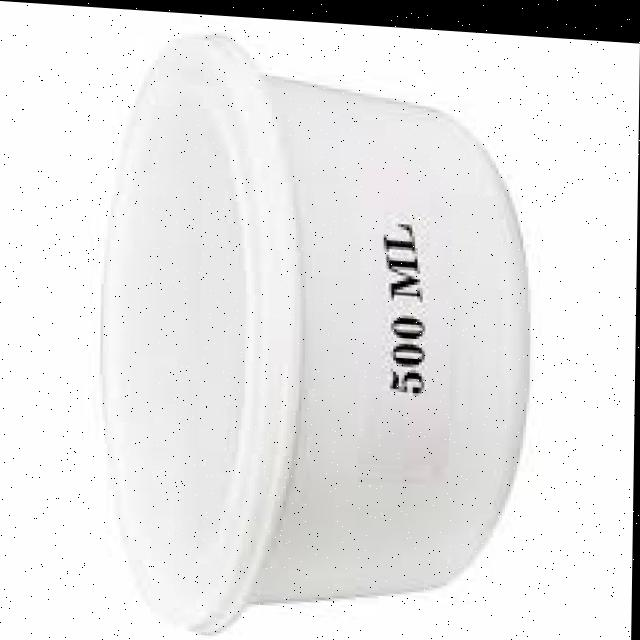disposable: (75, 4, 540, 640)
